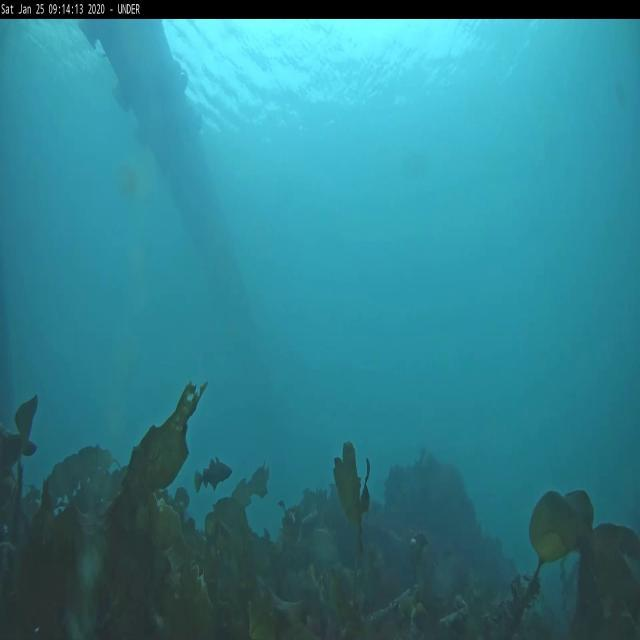fish: (191, 454, 232, 488)
